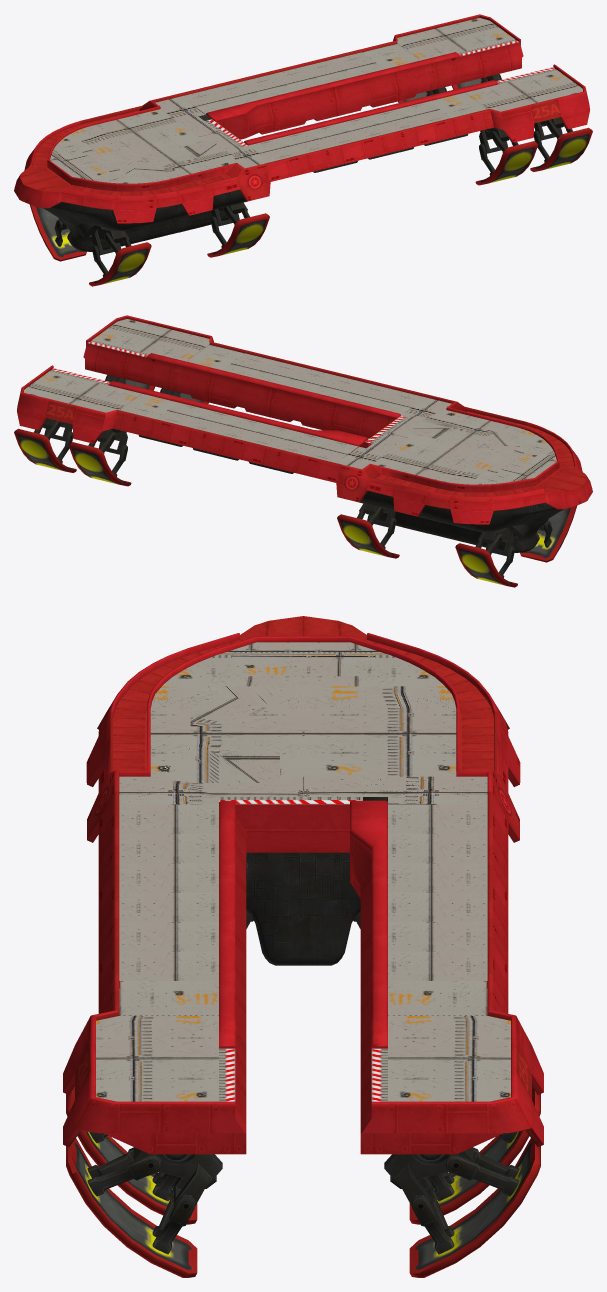
File: Airship_Finish_Point-1.FBX
The picture shows the model from 3 angles, top to bottom: view 1: azimuth 30°, elevation 25°; view 2: azimuth 150°, elevation 25°; view 3: azimuth 270°, elevation 25°; orthographic projection. The views are drawn at different scales.
Parts seen in each view (by area): view 1: Airship; view 2: Airship; view 3: Airship.
Boxes of the visible parts, x1,y1,x2,y2 form: Airship: (14, 14, 592, 286); Airship: (14, 315, 592, 587); Airship: (63, 616, 543, 1277).
Bounding box in the file's own units: 8180 × 1647 × 3284.
1 material, 1 textured.
